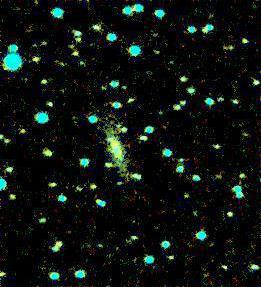star: (8, 117, 38, 147)
